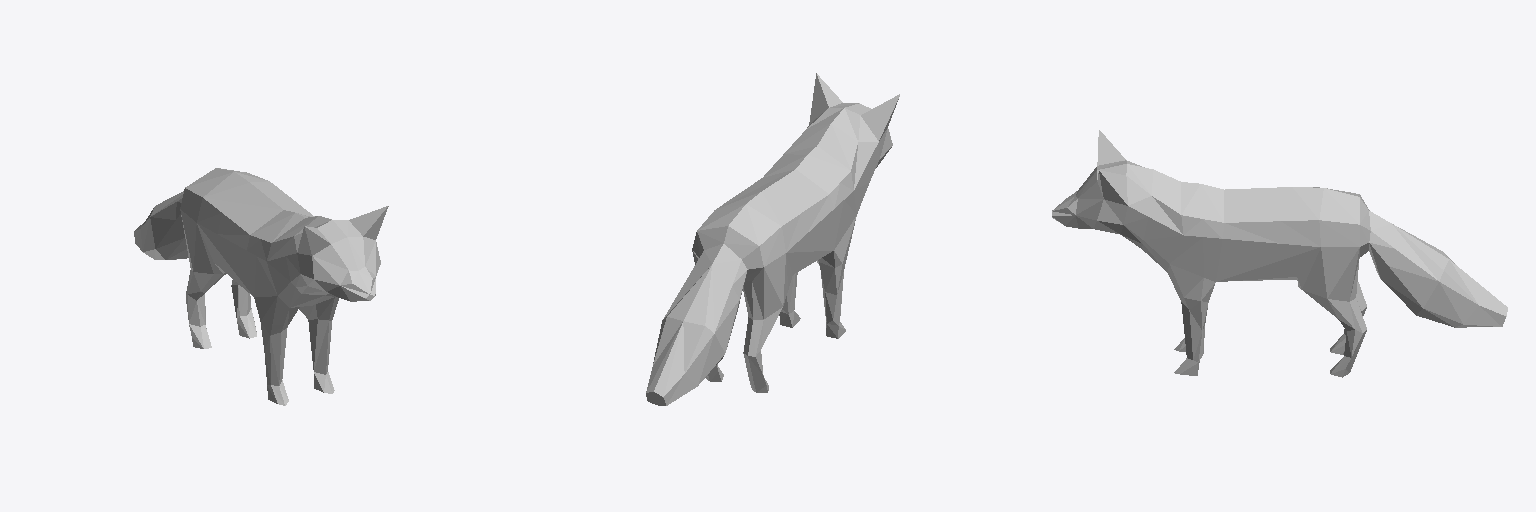
The model's file is fox1.obj.
3 renders of one model, left to right at view 1: azimuth 30°, elevation 25°; view 2: azimuth 150°, elevation 25°; view 3: azimuth 270°, elevation 25°, orthographic.
Visible parts, largest first — view 1: fox1; view 2: fox1; view 3: fox1.
Boxes of the visible parts, box(x1,y1,x2,y2) form: fox1: box(134, 168, 388, 405); fox1: box(646, 73, 899, 405); fox1: box(1052, 130, 1507, 377).
Bounding box in the file's own units: 10.98 × 26.43 × 51.4.